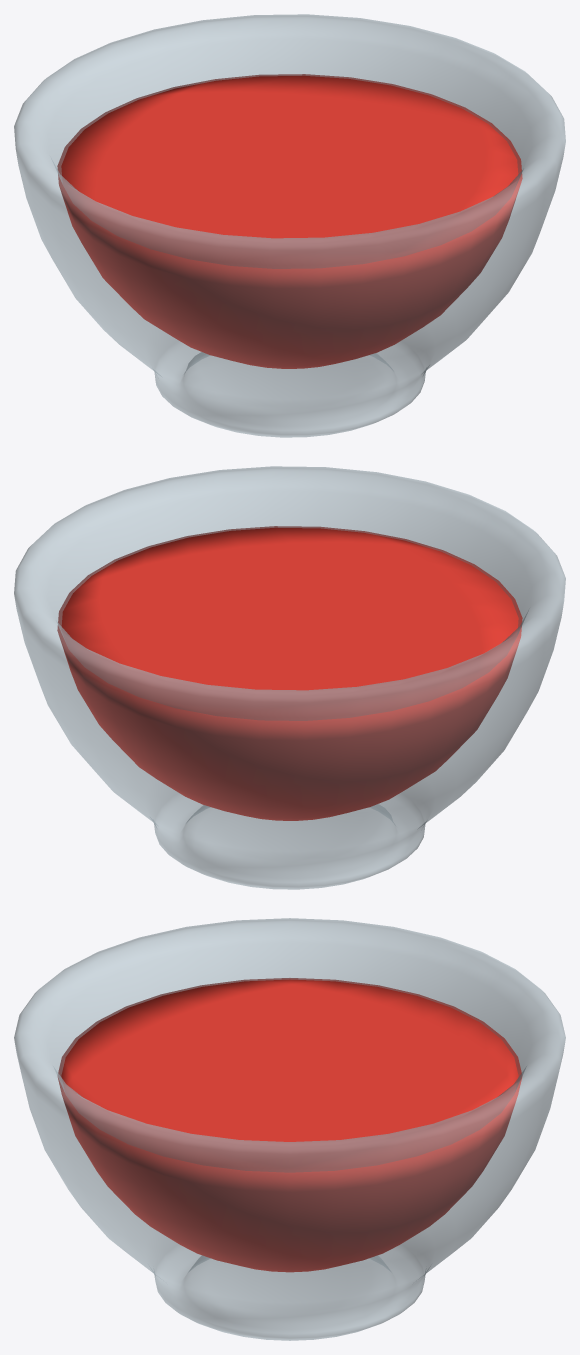
The model's file is SauceBowl.glb.
3 views of the same model, one above another, from view 1: azimuth 30°, elevation 25°; view 2: azimuth 150°, elevation 25°; view 3: azimuth 270°, elevation 25° (orthographic).
Visible parts, largest first — view 1: Bowl, Dough; view 2: Bowl, Dough; view 3: Bowl, Dough.
Part boxes in pixels (<box>): Bowl: <box>14,14,565,437</box>; Dough: <box>57,74,522,368</box>; Bowl: <box>14,466,565,889</box>; Dough: <box>57,526,522,820</box>; Bowl: <box>14,918,565,1340</box>; Dough: <box>58,978,521,1272</box>.
Size of the model in its own units: 2.24 by 1.16 by 2.24.
